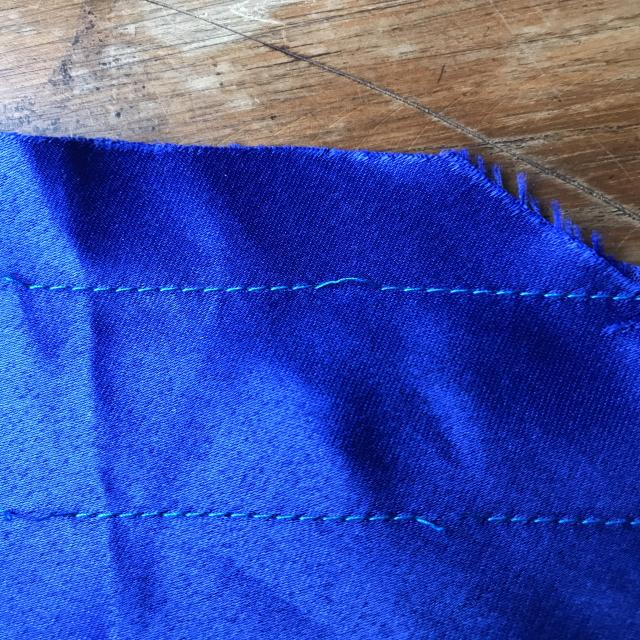broken: (396, 478, 539, 556)
good: (96, 268, 270, 311)
skip: (301, 260, 402, 320)
